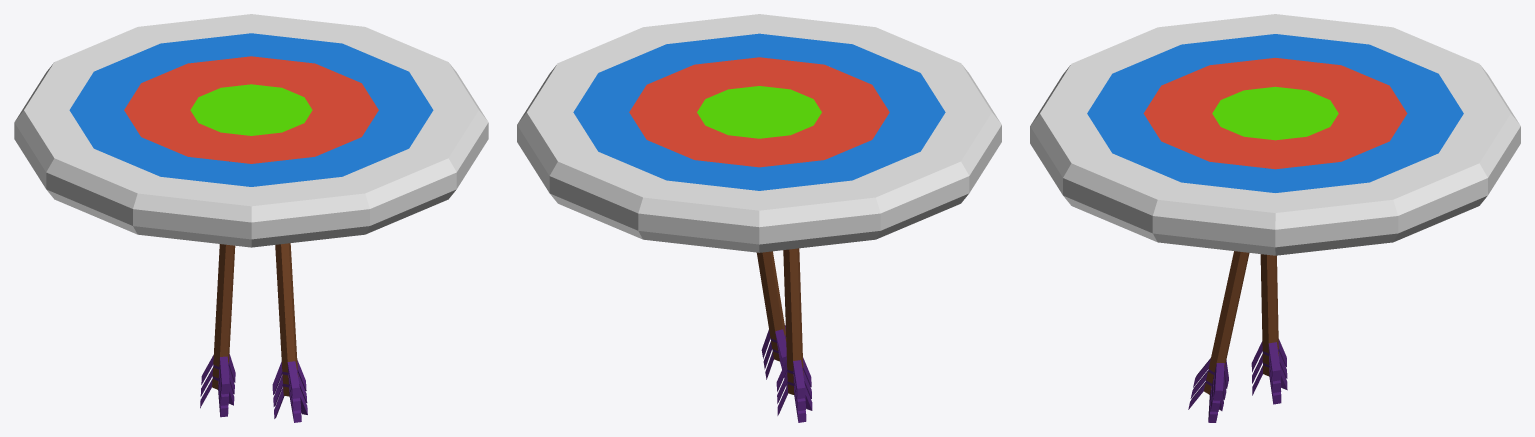
Rendered from archery skills.glb.
3 renders of one model, left to right at view 1: azimuth 30°, elevation 25°; view 2: azimuth 150°, elevation 25°; view 3: azimuth 270°, elevation 25°, orthographic. The views are drawn at different scales.
Visible parts, largest first — view 1: archery; view 2: archery; view 3: archery.
Boxes of the visible parts, left/top/right/bottom form: archery: left=14, top=14, right=488, bottom=422; archery: left=517, top=14, right=1001, bottom=422; archery: left=1030, top=14, right=1520, bottom=422.
Bounding box in the file's own units: 2.08 × 1.41 × 2.08.
